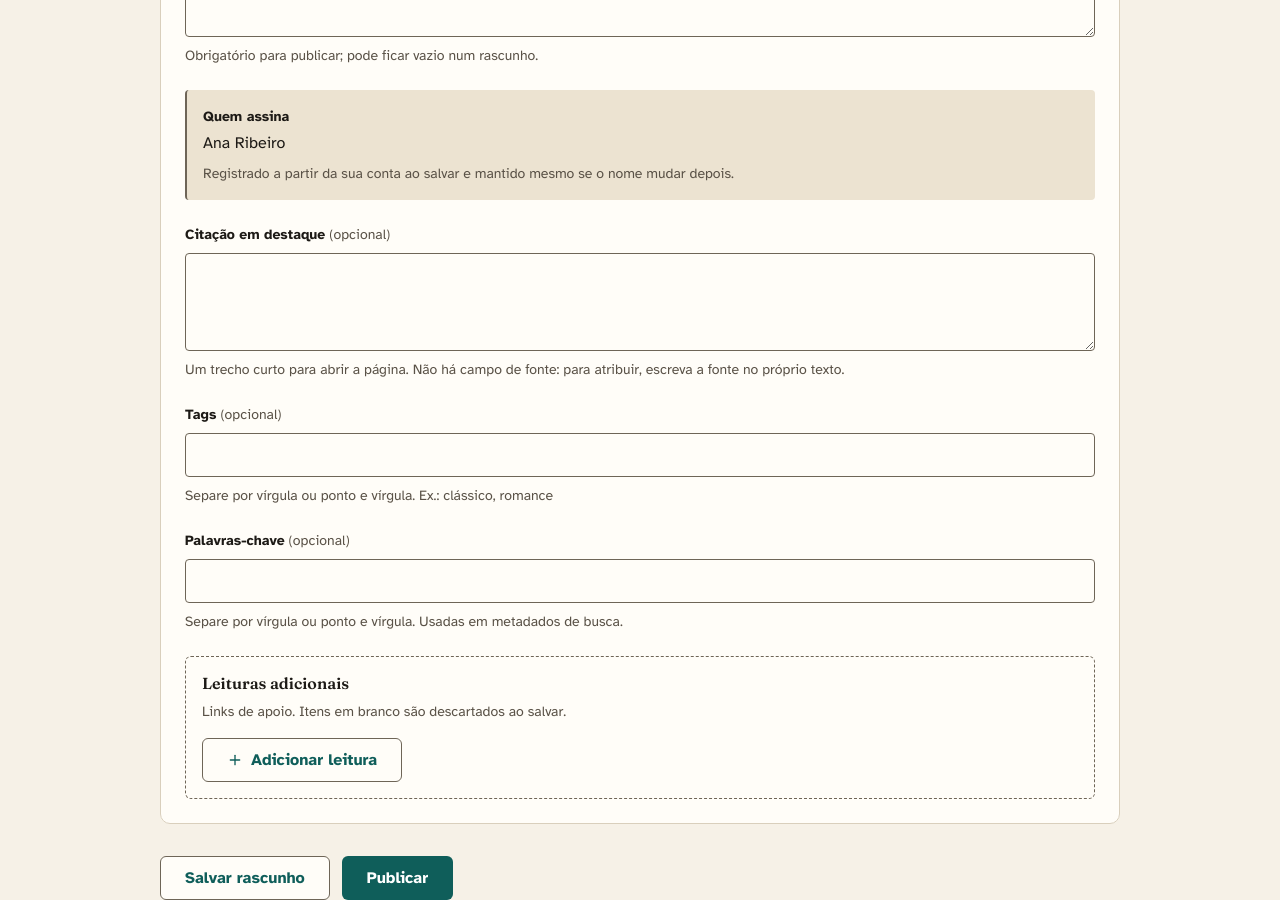
Test case: região de status: polida, presente desde o 1º render › anuncia a FALHA da submissão — na mesma região, também polida
The width and height of the screenshot is (1280, 900).
(page scrolled)
Step 1. Click the button "Salvar rascunho" → (245, 878), box [160,856,330,899]
(page scrolled)
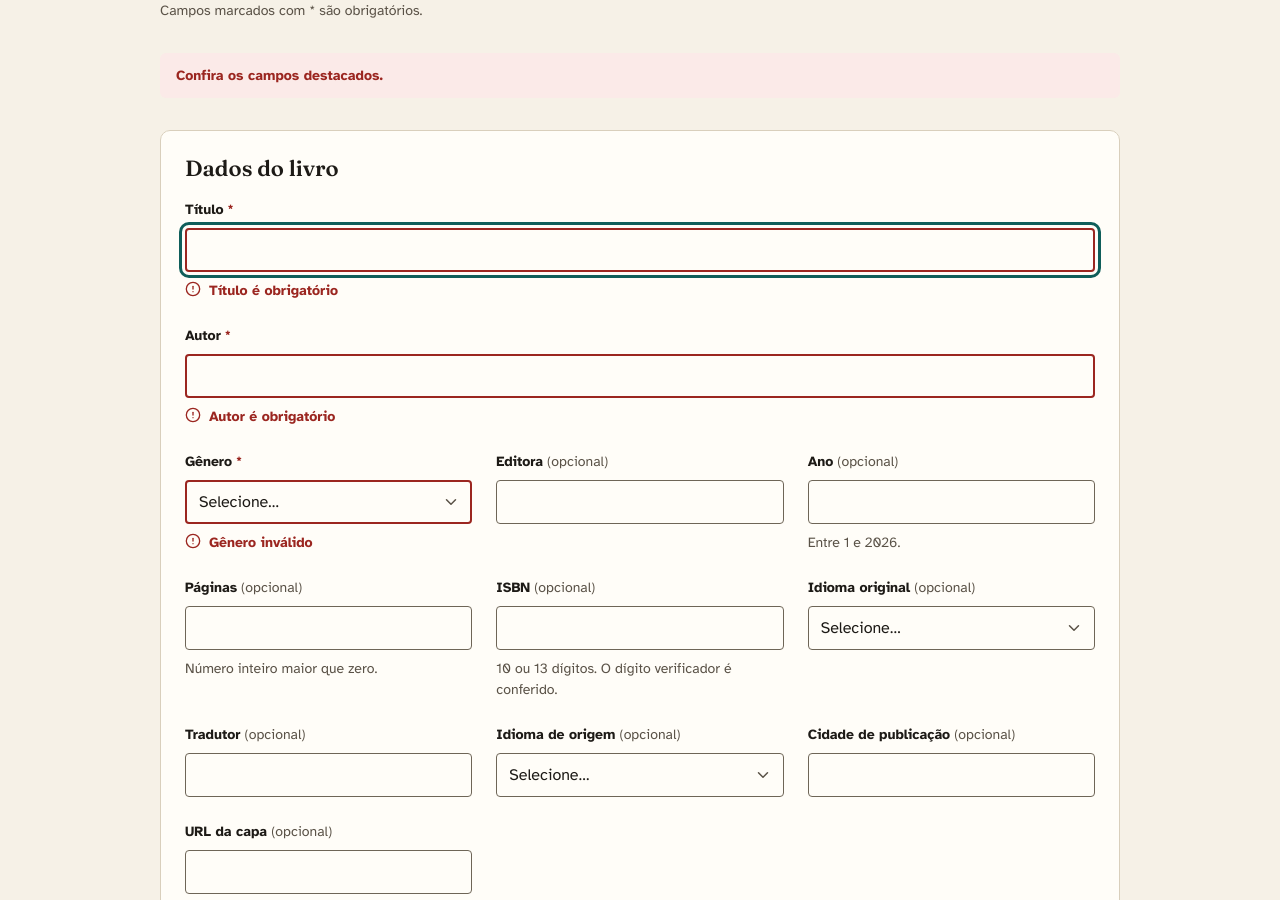
expect the message "Confira os campos destacados." is shown: met, box [160,53,1120,98]
